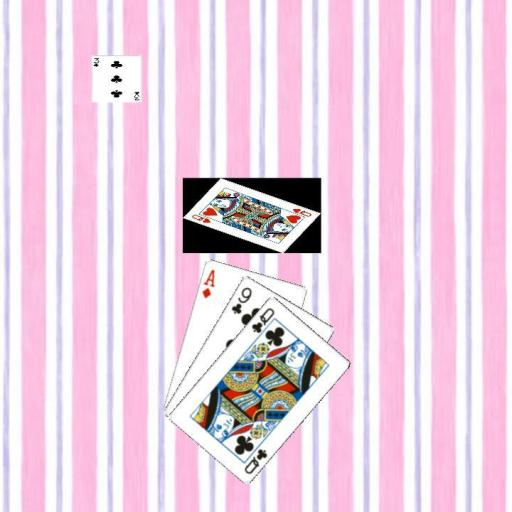9C: (228, 284, 253, 316)
AD: (199, 266, 217, 299)
QC: (248, 305, 276, 335), (241, 445, 269, 475)
